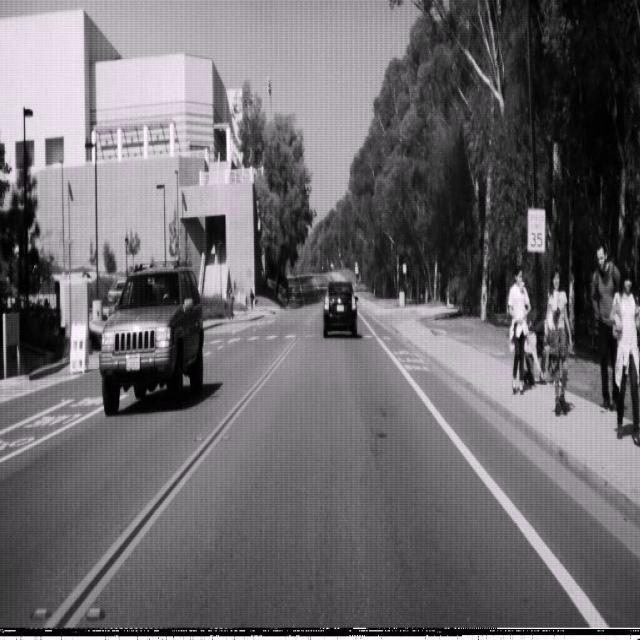speedLimit35: (526, 207, 546, 254)
